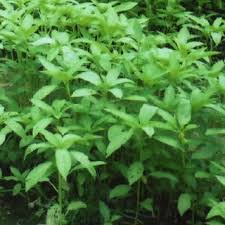jute: (2, 1, 225, 187)
